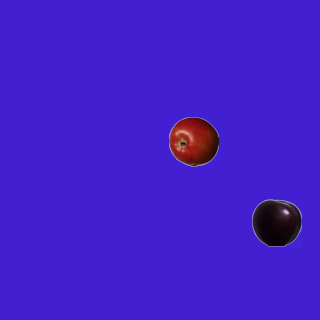Apple Braeburn: (168, 116, 218, 166)
Cherry Wax Black: (251, 197, 301, 247)
